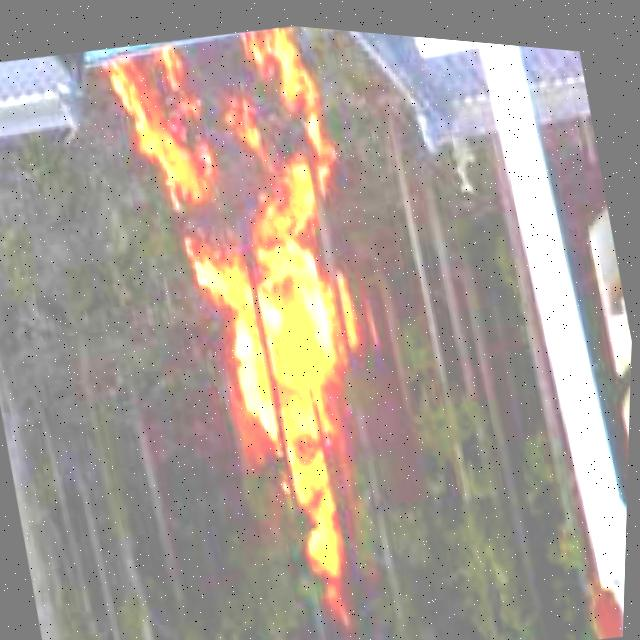Fire: (93, 7, 433, 640)
